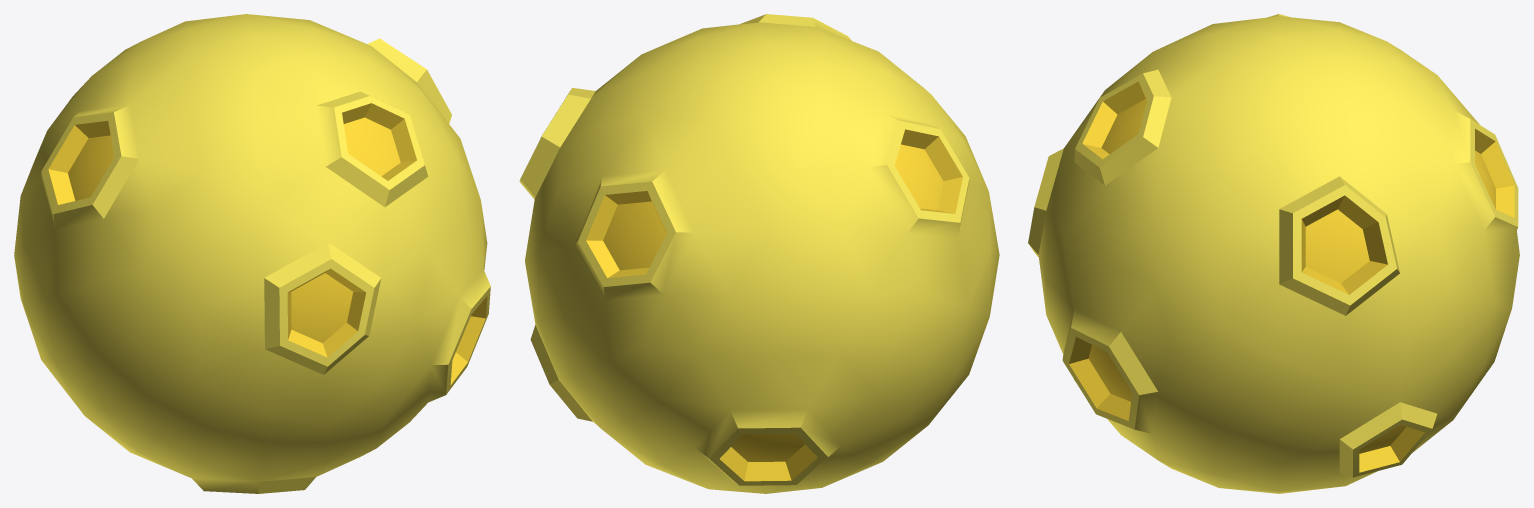
File: full_moon.gltf
3 renders of one model, left to right at view 1: azimuth 30°, elevation 25°; view 2: azimuth 150°, elevation 25°; view 3: azimuth 270°, elevation 25°, orthographic.
Parts seen in each view (by area): view 1: Icosphere.004; view 2: Icosphere.004; view 3: Icosphere.004.
Boxes of the visible parts, left/top/right/bottom form: Icosphere.004: left=14, top=14, right=490, bottom=493; Icosphere.004: left=519, top=14, right=999, bottom=493; Icosphere.004: left=1028, top=14, right=1519, bottom=493.
Size of the model in its own units: 2.01 by 2.04 by 2.04.
1 material, 1 textured.
